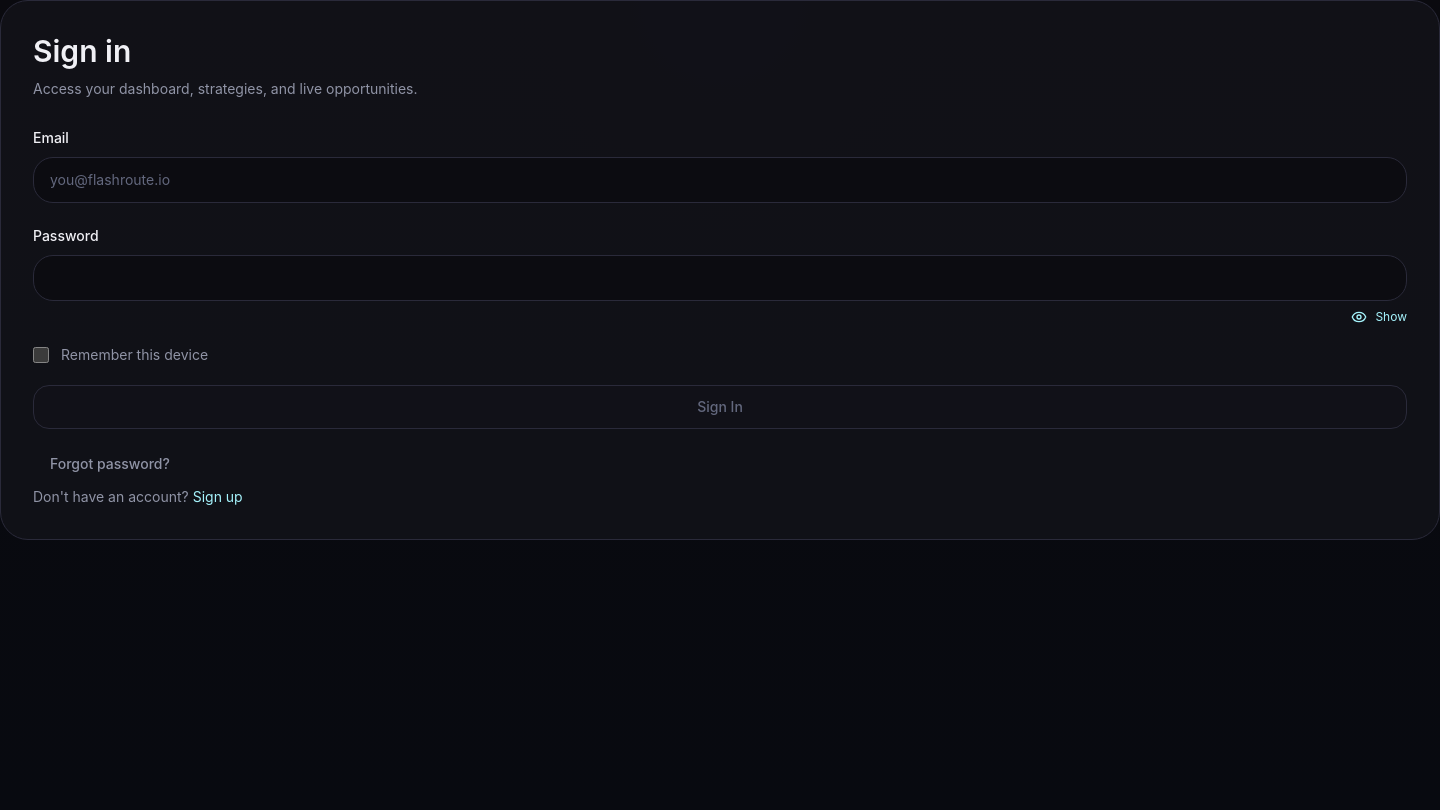
Test: LoginPage › uses stable lockout contract fields instead of parsing message strings
The width and height of the screenshot is (1440, 810).
Expected: the heading "Sign in" is shown, 33,33 -> 131,69
In the field labelled "Email": (720, 180) 33,157 -> 1407,203, type "jane@flashroute.test"
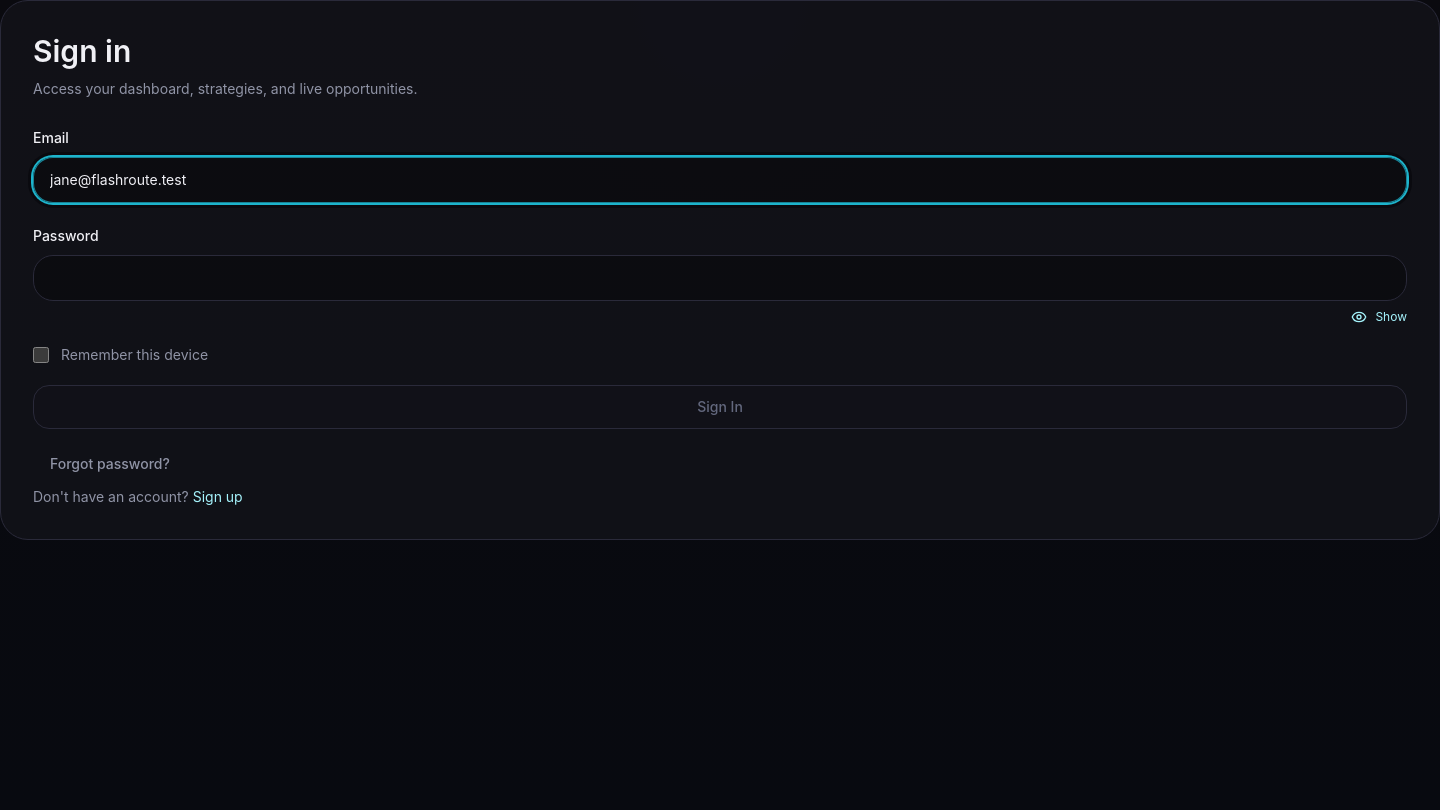
In the password field labelled "Password Show": (720, 278) 33,255 -> 1407,301, type "StrongP@ss1"
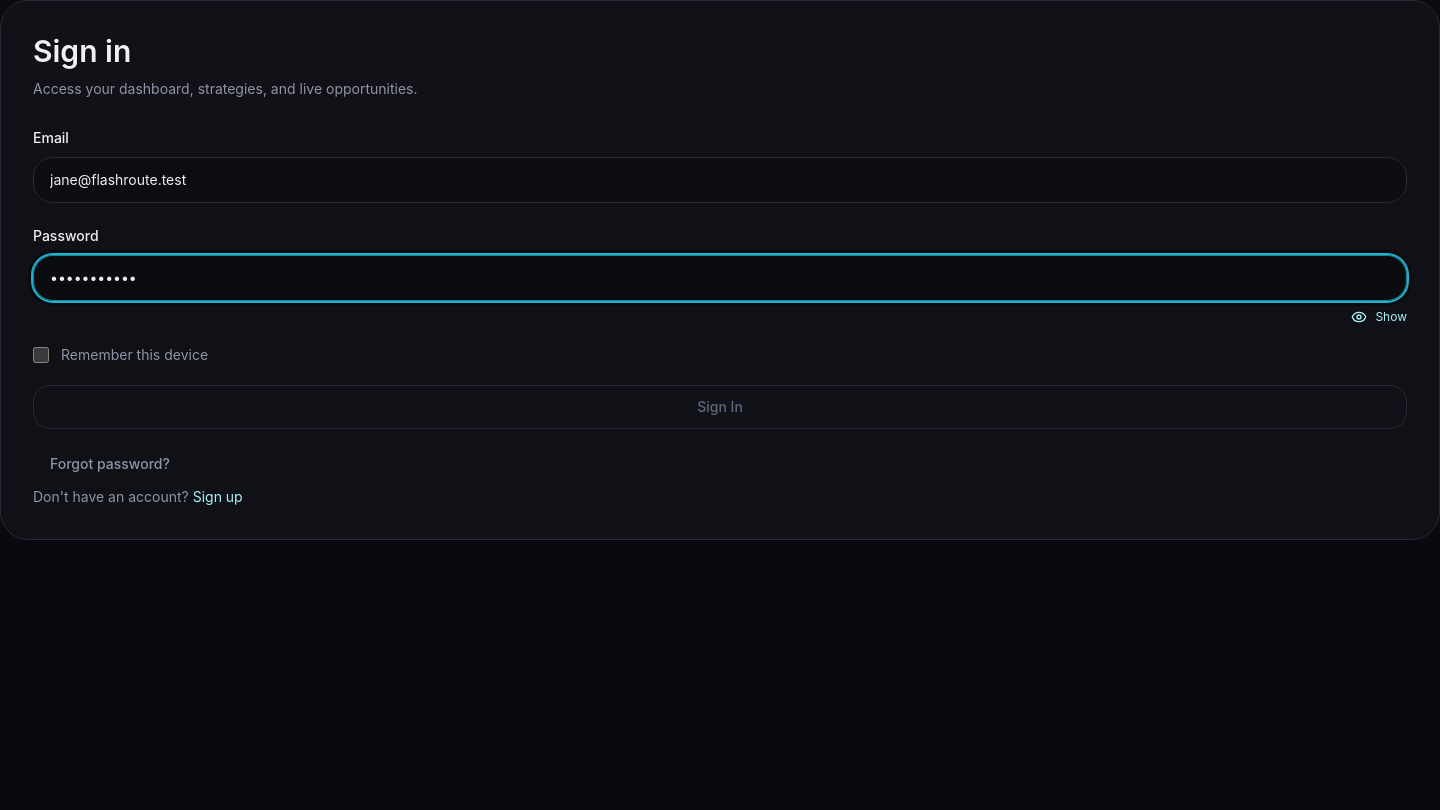
Submit the form "Email Password Show Remember this device Sign In", box 33,125 -> 1407,429
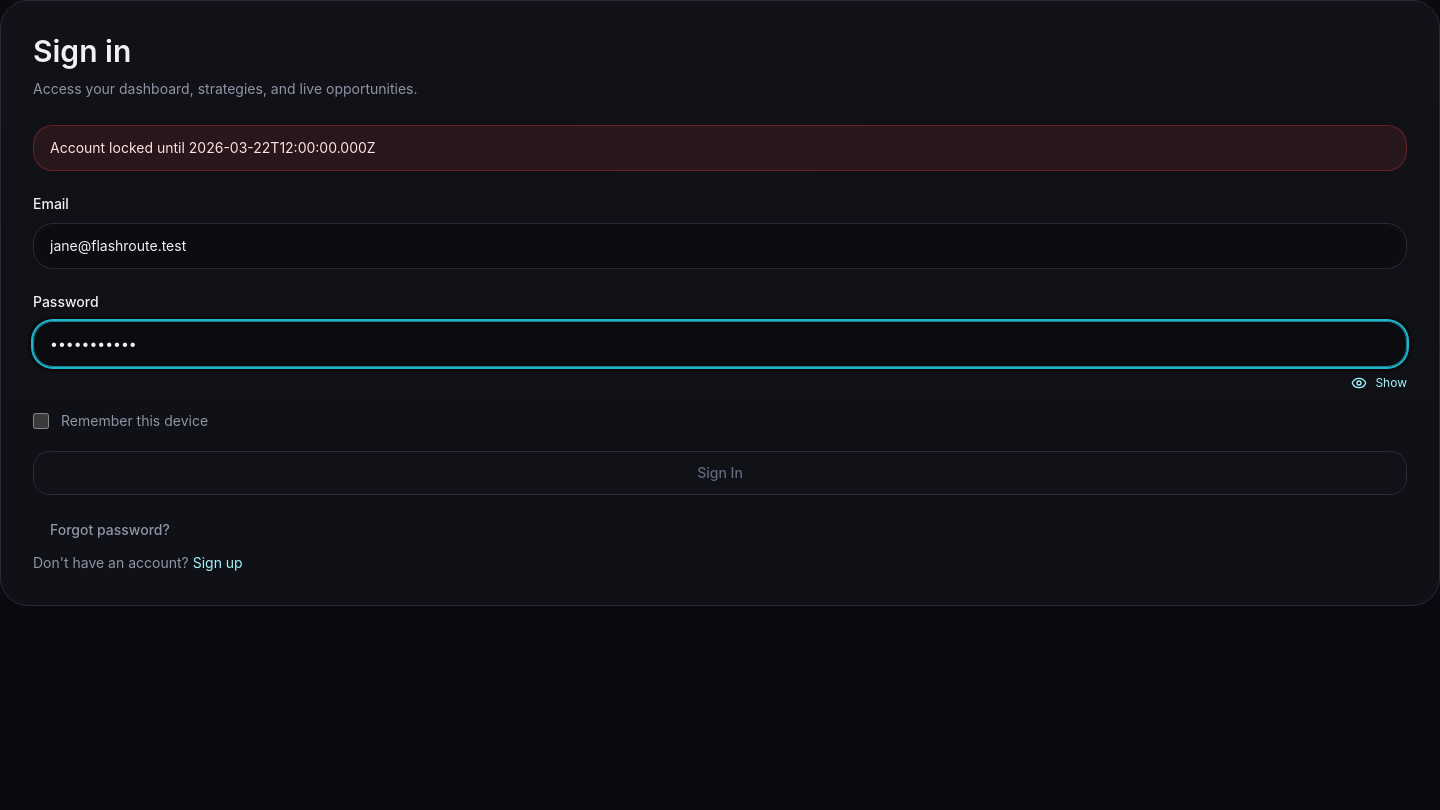
Result: the text "Account locked until 2026-03-22T12:00:00.000Z" is shown at 33,125 -> 1407,171
